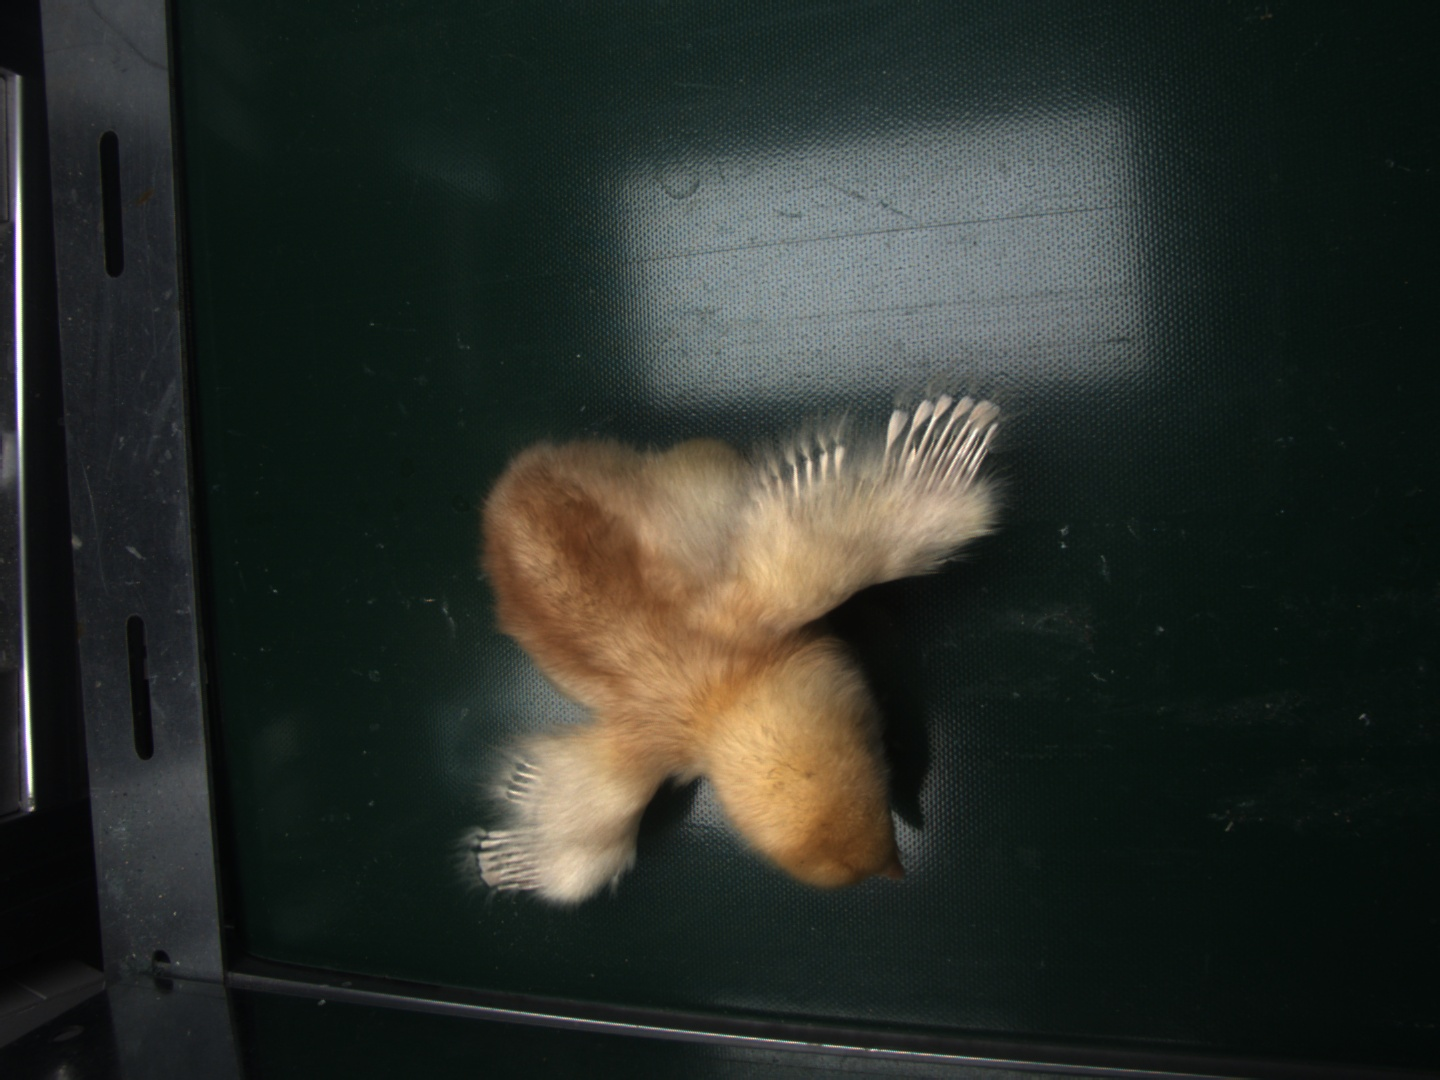female: (892, 395, 1002, 487)
